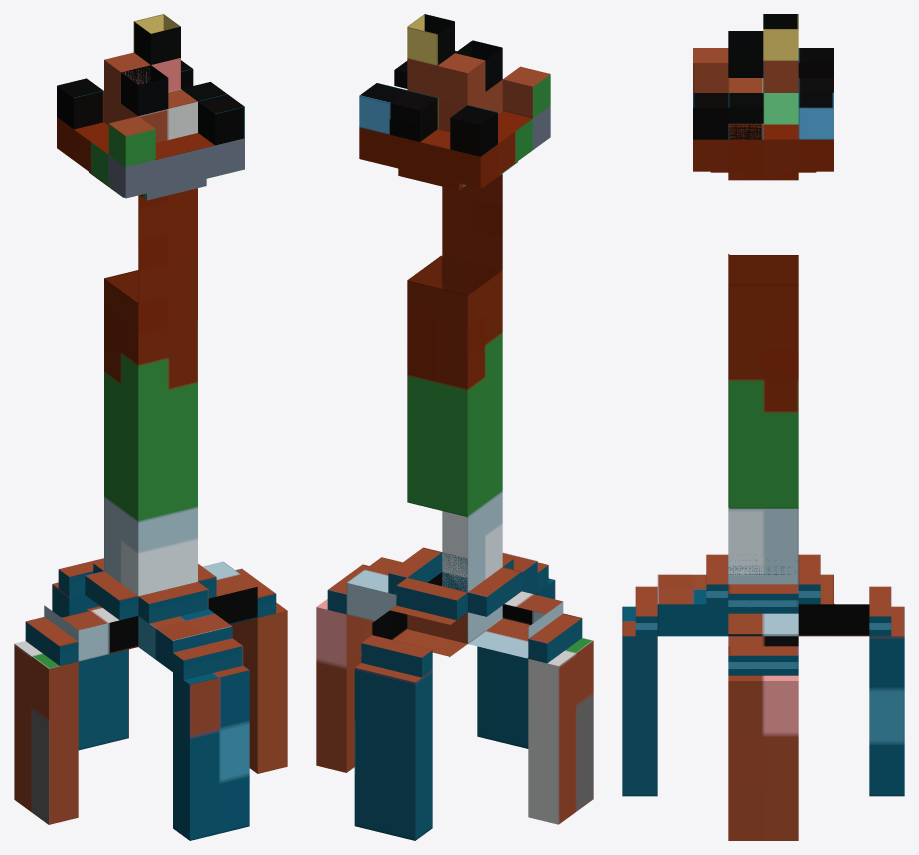
The model's file is tikitorch1.obj.
3 renders of one model, left to right at view 1: azimuth 30°, elevation 25°; view 2: azimuth 150°, elevation 25°; view 3: azimuth 270°, elevation 25°, orthographic. The views are drawn at different scales.
Visible parts, largest first — view 1: cube; view 2: cube; view 3: cube.
Boxes of the visible parts, left/top/right/bottom form: cube: left=14, top=14, right=287, bottom=840; cube: left=316, top=14, right=593, bottom=840; cube: left=622, top=14, right=904, bottom=840.
Bounding box in the file's own units: 8 × 24 × 8.
